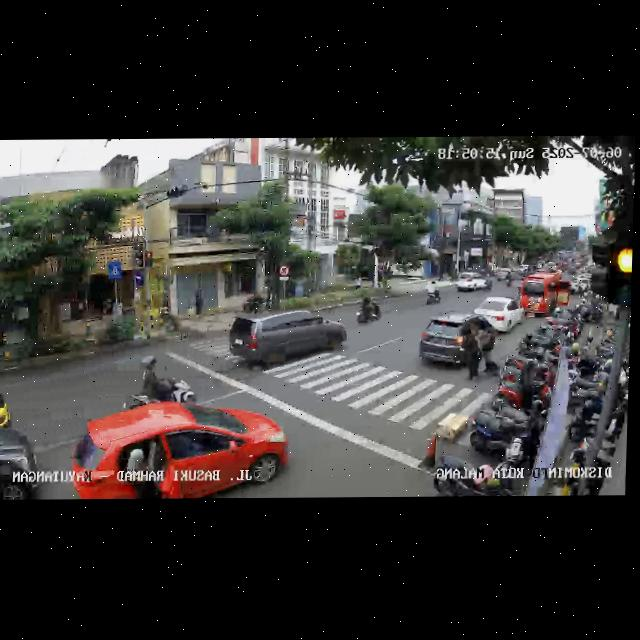car: (70, 400, 290, 499), (225, 309, 347, 374), (417, 314, 494, 373), (0, 420, 41, 500), (520, 275, 572, 319), (473, 297, 524, 334), (0, 384, 15, 444), (455, 271, 494, 294)
motorcycle: (136, 355, 197, 406), (355, 294, 383, 325), (424, 280, 441, 306)
